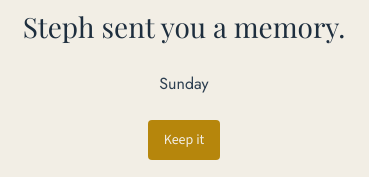
receiving a shared memory › clears pending token on not_found and offers archive
Click the button "Keep it". click: (184, 140)
box: [148,120,220,160]
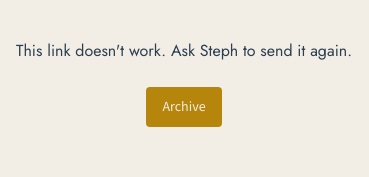
Check: the message "This link doesn't work. Ask Steph to send it again." is shown, box [16,39,352,62]
Check: the button "Archive" is shown, box [146,87,222,127]
